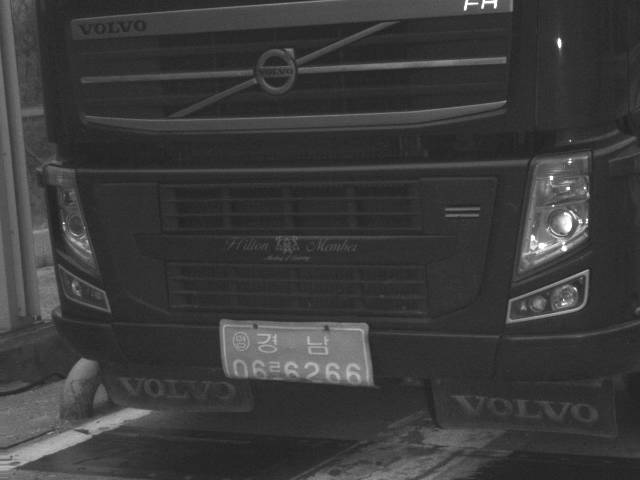car: (27, 1, 639, 439)
plate: (219, 318, 375, 391)
